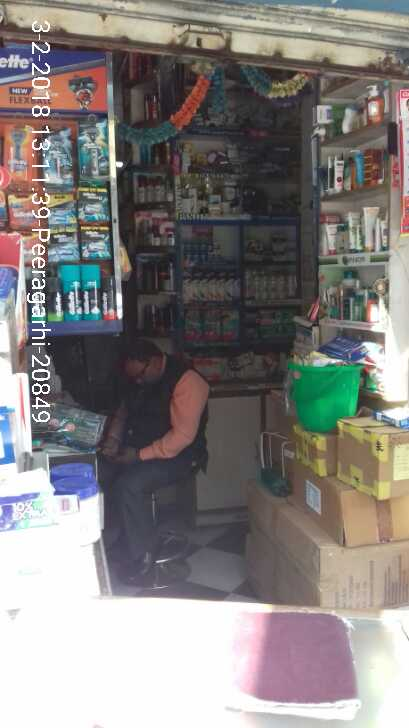vicks: (183, 238, 240, 271)
